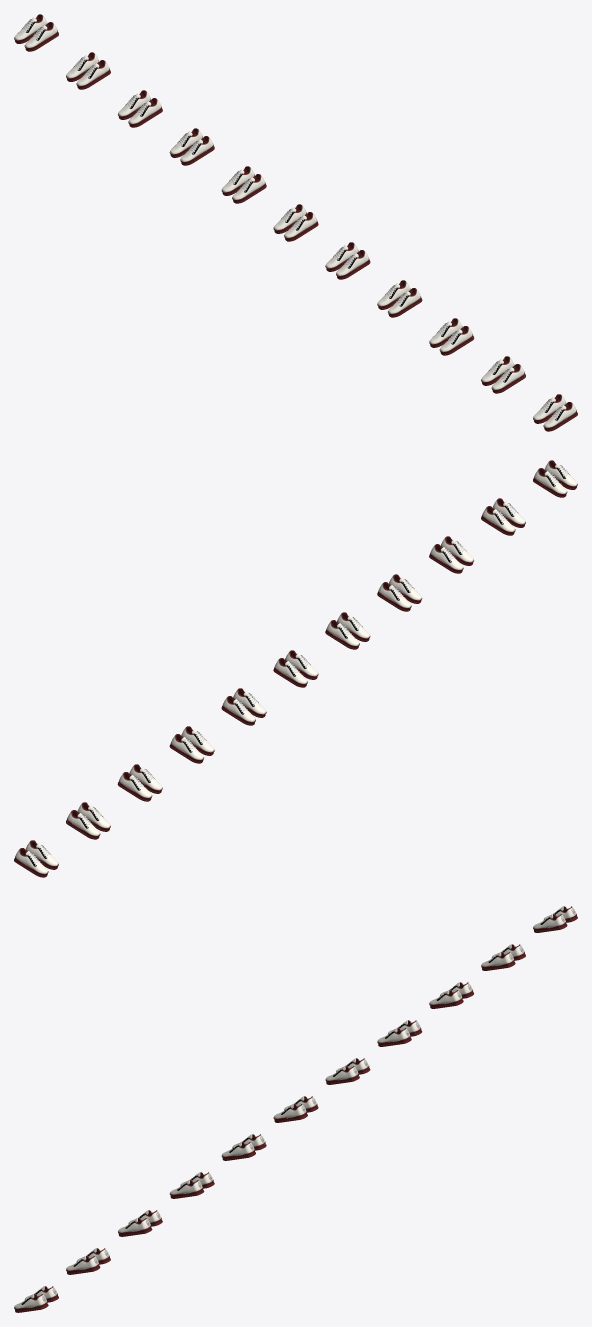
The model's file is Shoes.glb.
3 views of the same model, one above another, from view 1: azimuth 30°, elevation 25°; view 2: azimuth 150°, elevation 25°; view 3: azimuth 330°, elevation 25° (orthographic).
Parts seen in each view (by area): view 1: Shoes.001; view 2: Shoes.001; view 3: Shoes.001.
Part boxes in pixels (<box>): Shoes.001: <box>14,14,577,431</box>; Shoes.001: <box>14,460,577,877</box>; Shoes.001: <box>14,906,577,1312</box>.
Bounding box in the file's own units: 0.4518 × 0.2969 × 12.99.
Materials: 3 (3 with a texture image).
